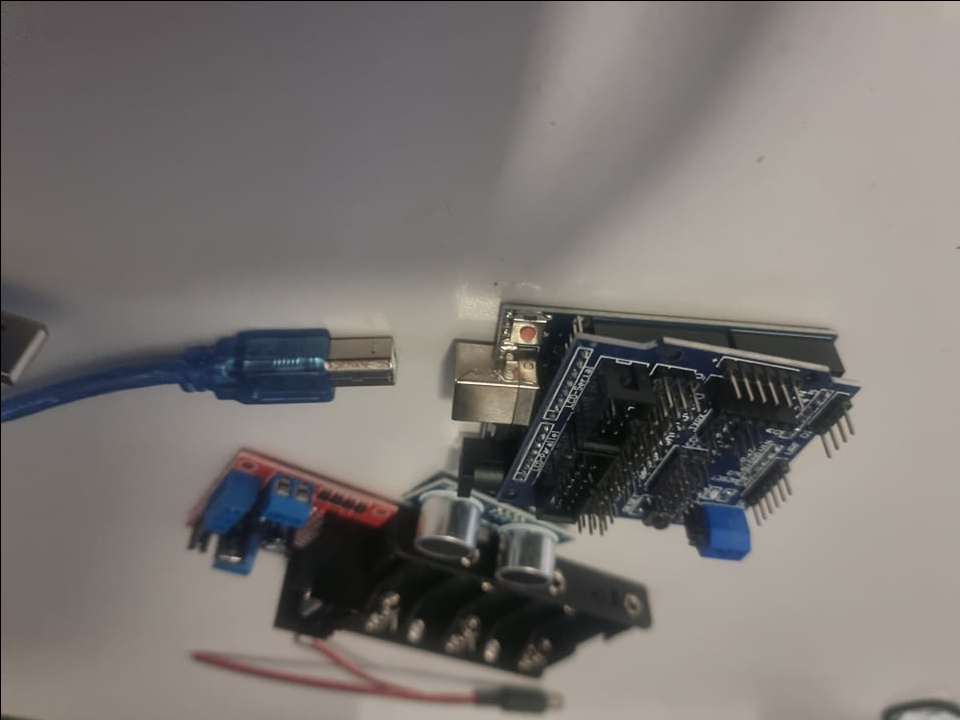5V EXPANSION: (557, 346, 859, 576)
BATTERY BOX: (383, 521, 648, 682)
MOTOR: (184, 447, 382, 646)
SENSOR: (412, 478, 574, 588)
UNO R3: (433, 293, 547, 498)
